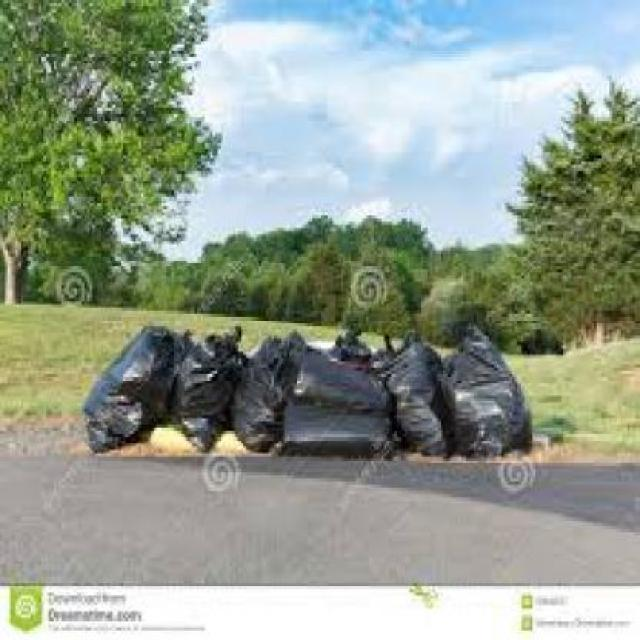garbage: (43, 251, 588, 508)
